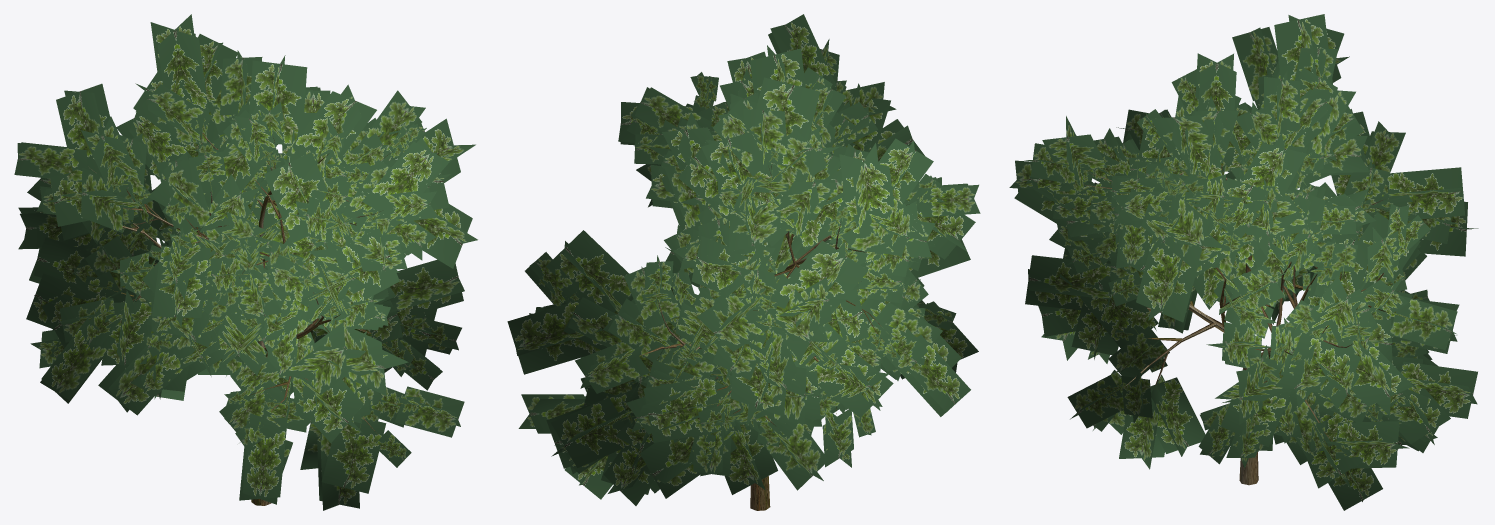
File: oak_tree.glb
3 views of the same model, side by side, from view 1: azimuth 30°, elevation 25°; view 2: azimuth 150°, elevation 25°; view 3: azimuth 270°, elevation 25° (orthographic). The views are drawn at different scales.
Parts seen in each view (by area): view 1: oak_tree; view 2: oak_tree; view 3: oak_tree.
Boxes of the visible parts, box(x1,y1,x2,y2) form: oak_tree: box(14, 14, 477, 510); oak_tree: box(507, 14, 980, 510); oak_tree: box(1009, 14, 1478, 510).
Bounding box in the file's own units: 4.04 × 4.37 × 4.24.
2 materials, 2 textured.
